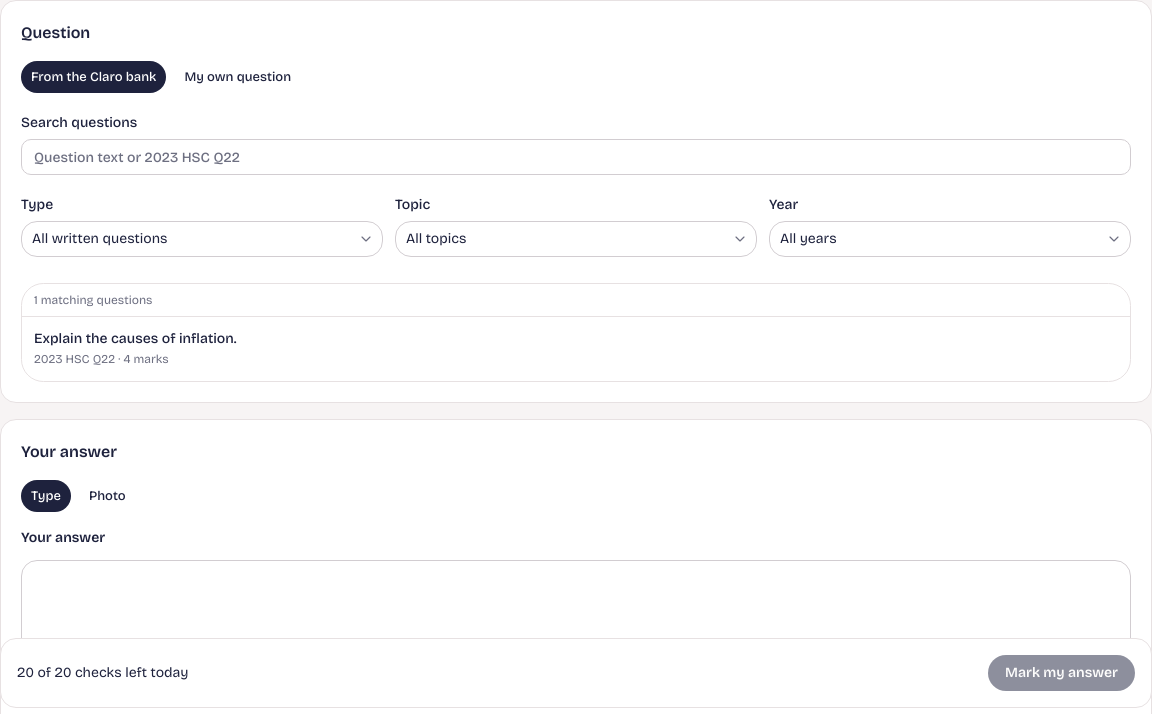
Scenario: shows inline own-question validation and auto-fills the verb
Click the button "My own question". click: (238, 77)
box: [174,61,301,93]
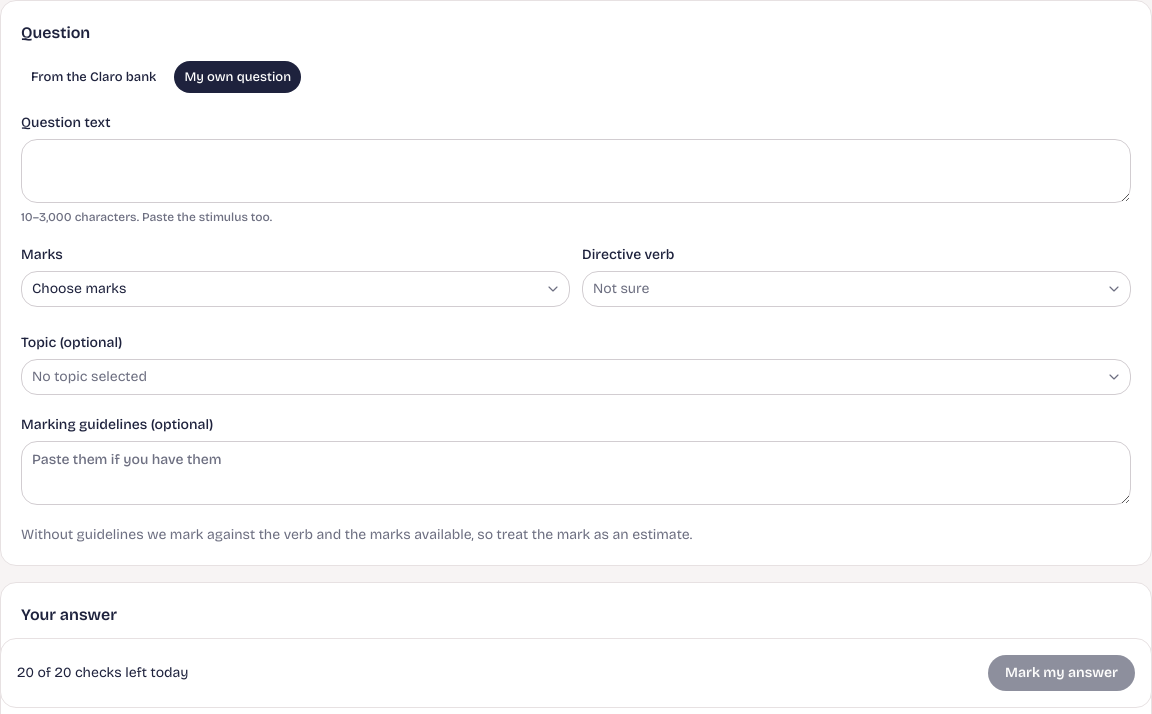
Type "Explain" into the text box labelled "Question text 10–3,000 characters. Paste the stimulus too.". click: (576, 171)
box: [21,139,1131,203]
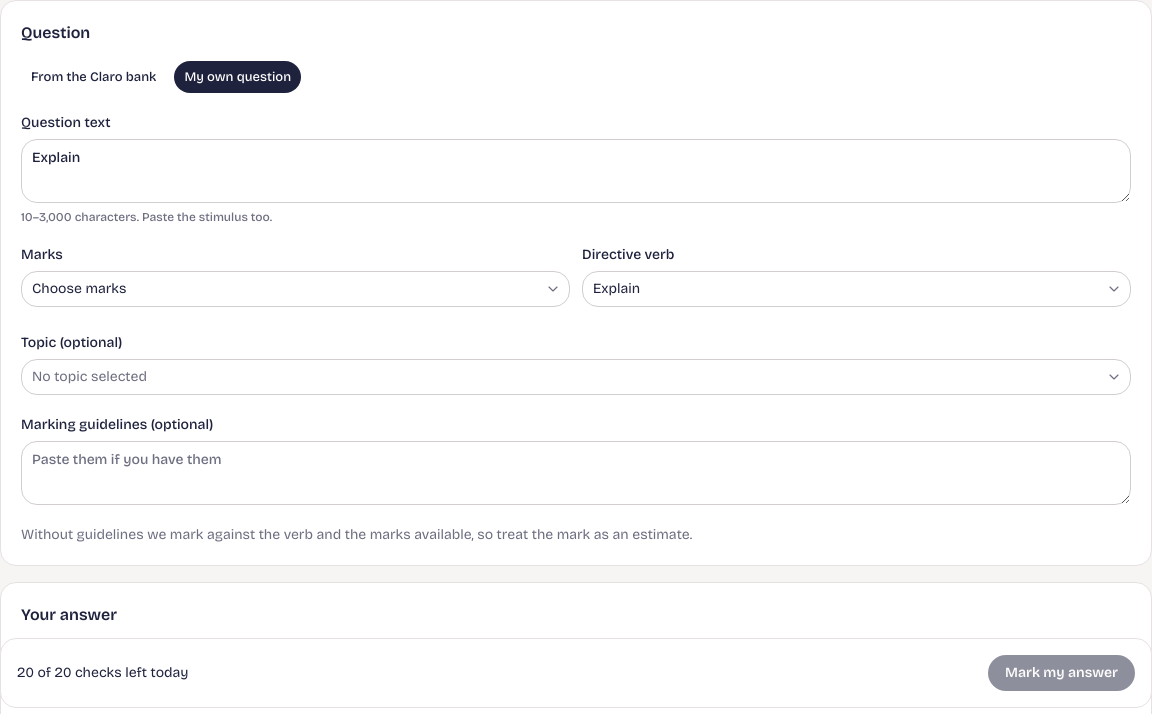
Leave the text box labelled "Question text 10–3,000 characters. Paste the stimulus too.", box [21,139,1131,203]
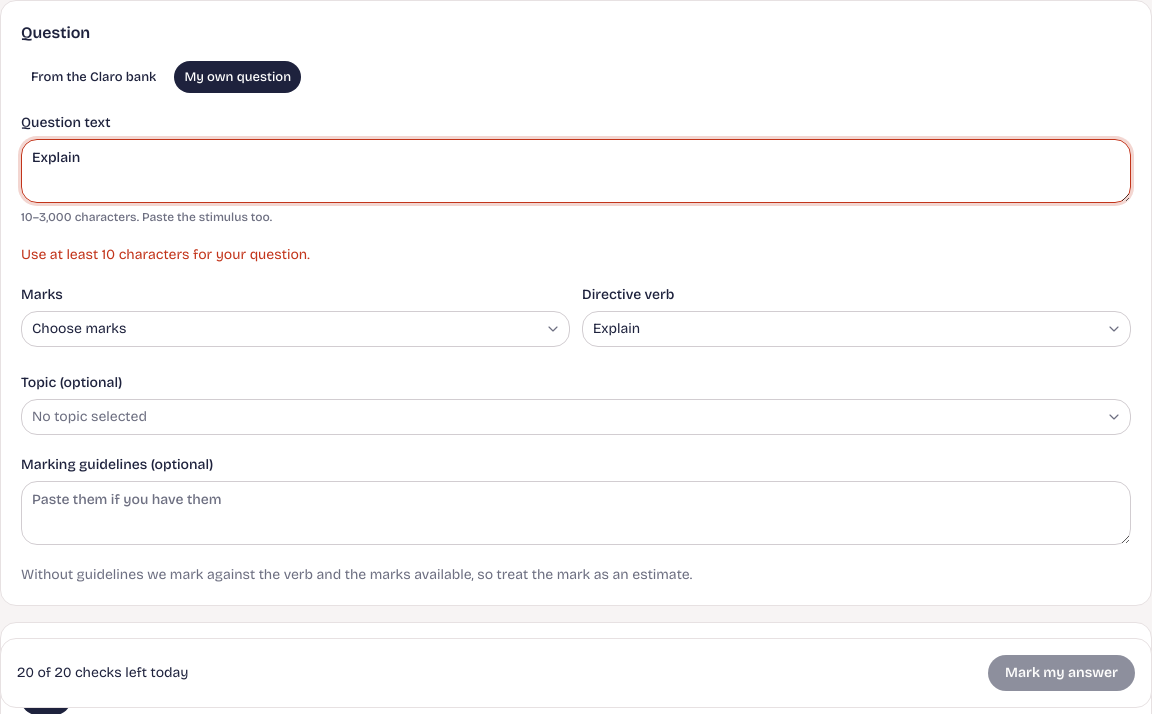
Check: the message "Use at least 10 characters for your question." is shown, box [21,246,310,263]
Replace the text in the text box labelled "Question text 10–3,000 characters. Paste the stimulus too." with "Assess the impact of fiscal policy.". click: (576, 171)
box: [21,139,1131,203]
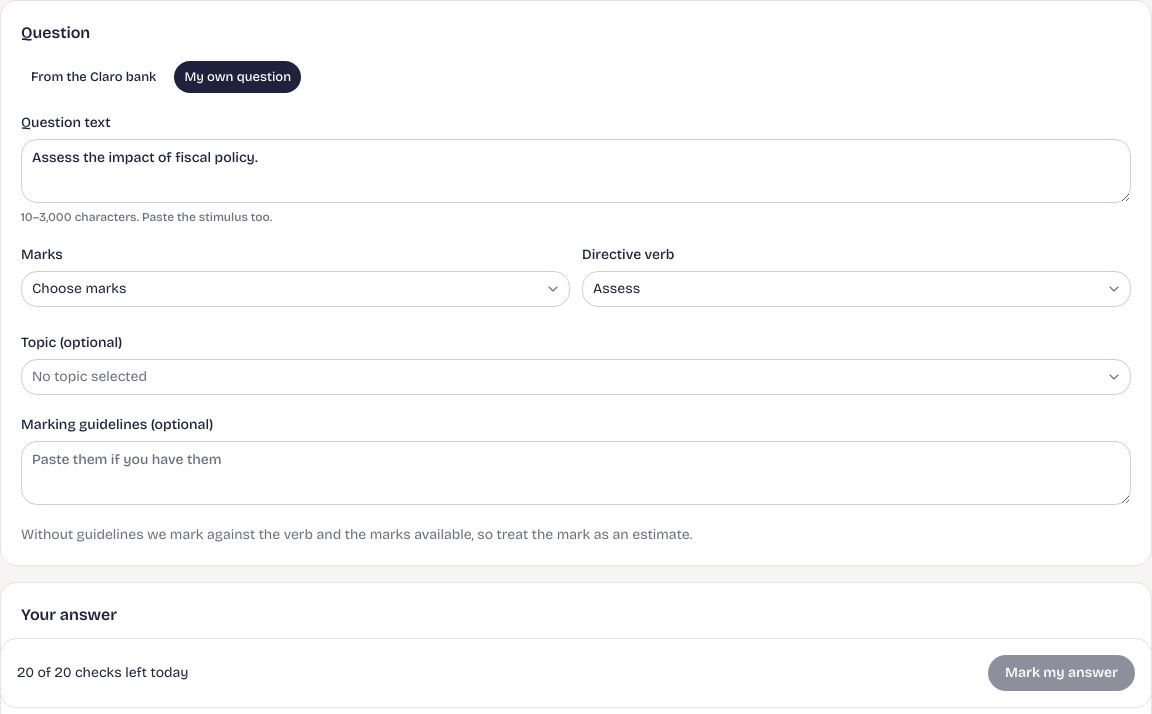
Check: the button "Mark my answer" is disabled, box [988,655,1135,691]
Check: the dropdown named "Directive verb" reads "Assess", box [582,271,1131,307]
